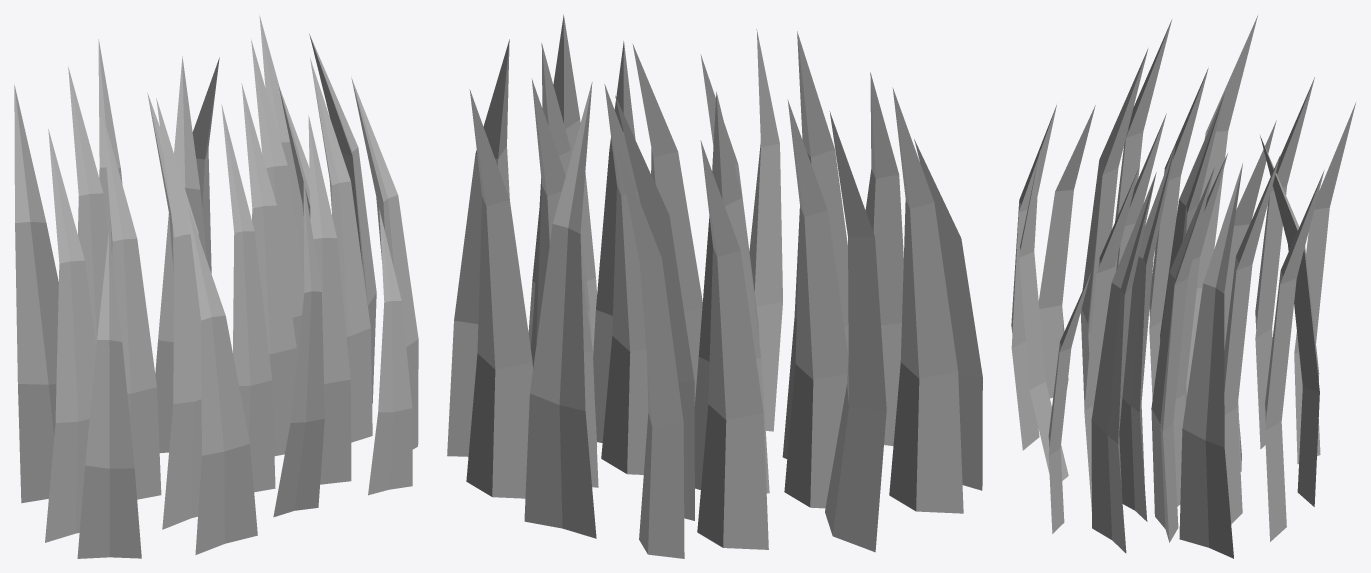
The model's file is Grass_04.fbx.
The picture shows the model from 3 angles, left to right: view 1: azimuth 30°, elevation 25°; view 2: azimuth 150°, elevation 25°; view 3: azimuth 270°, elevation 25°; orthographic projection. The views are drawn at different scales.
Visible parts, largest first — view 1: Grass_04; view 2: Grass_04; view 3: Grass_04.
Part boxes in pixels (bbox=[...]): Grass_04: bbox=[14, 15, 418, 558]; Grass_04: bbox=[447, 14, 982, 558]; Grass_04: bbox=[1011, 15, 1355, 558].
Bounding box in the file's own units: 0.3985 × 0.3971 × 0.3168.
